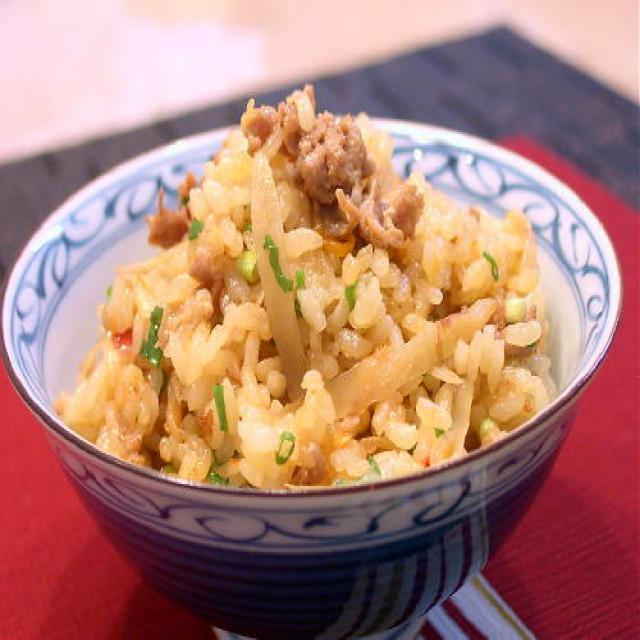米饭主食: (46, 86, 544, 471)
